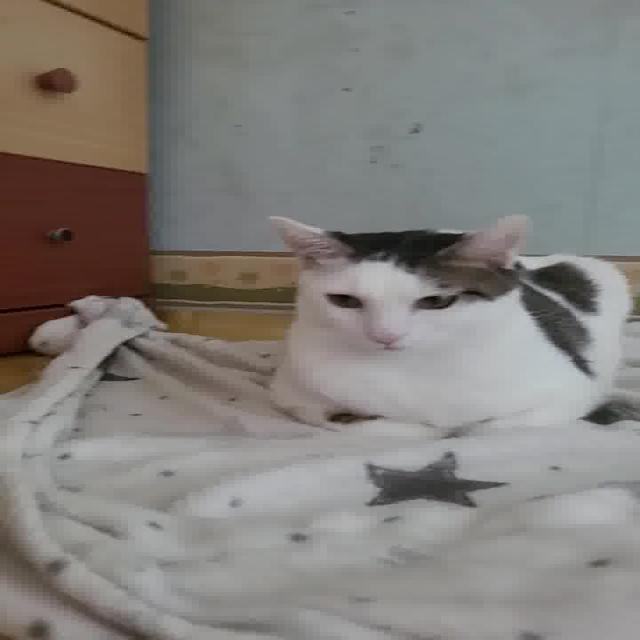cat: (257, 210, 627, 442)
